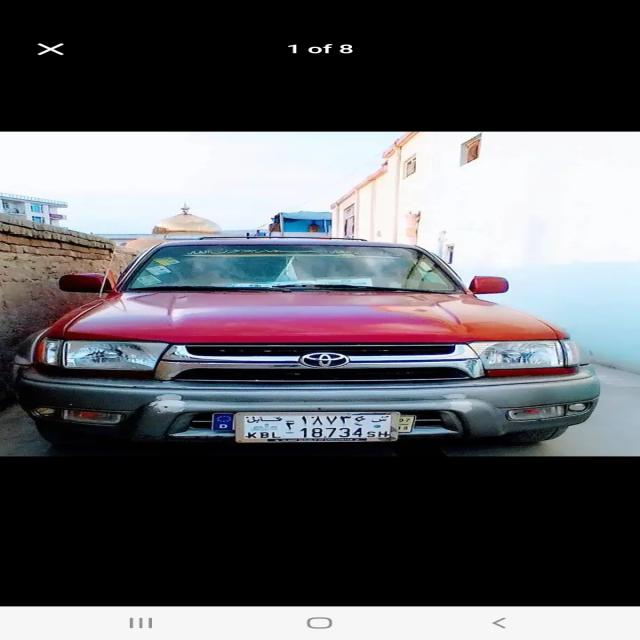Plate: (243, 414, 394, 441)
